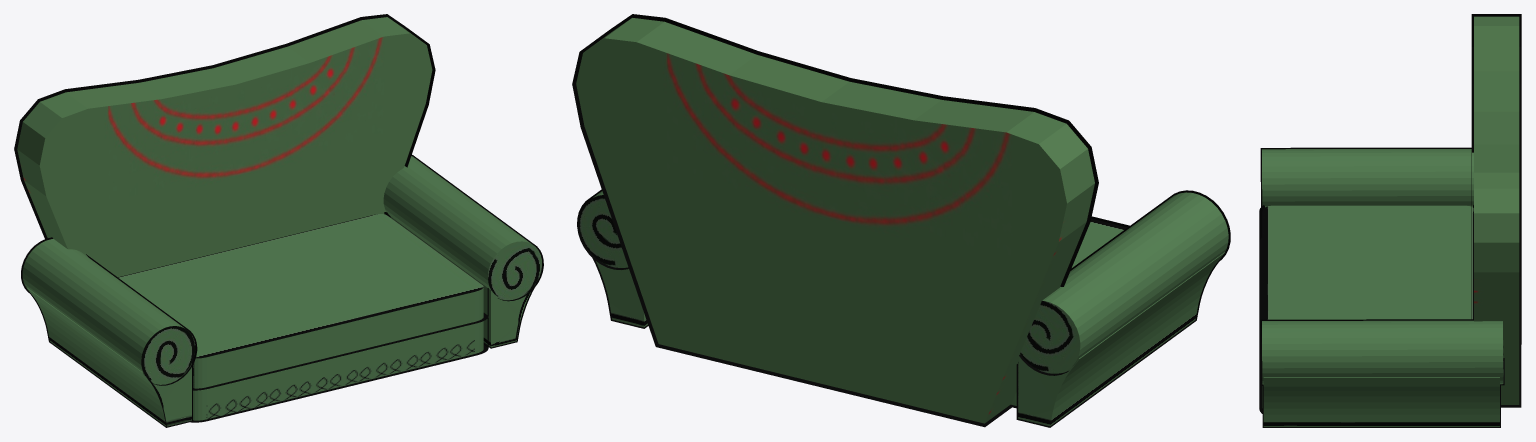
File: Sofa.obj
3 renders of one model, left to right at view 1: azimuth 30°, elevation 25°; view 2: azimuth 150°, elevation 25°; view 3: azimuth 270°, elevation 25°, orthographic. The views are drawn at different scales.
Parts seen in each view (by area): view 1: Cubo.001, Cubo.003, Cilindro.001, Cubo.002, Cubo.004; view 2: Cubo.001, Cilindro.001, Cubo.004, Cubo.003; view 3: Cilindro.001, Cubo.003, Cubo.001, Cubo.004.
Boxes of the visible parts, <box> form: Cubo.001: <box>14,14,435,277</box>; Cubo.003: <box>118,212,488,390</box>; Cilindro.001: <box>21,155,543,385</box>; Cubo.002: <box>190,317,488,422</box>; Cubo.004: <box>25,217,539,427</box>; Cubo.001: <box>572,14,1098,427</box>; Cilindro.001: <box>577,189,1230,375</box>; Cubo.004: <box>592,251,1226,427</box>; Cubo.003: <box>1072,216,1129,267</box>; Cilindro.001: <box>1260,147,1504,385</box>; Cubo.003: <box>1259,205,1473,379</box>; Cubo.001: <box>1471,14,1521,407</box>; Cubo.004: <box>1262,205,1500,427</box>.
Size of the model in its own units: 4.31 by 2.47 by 2.39.
Materials: 10 (10 with a texture image).
